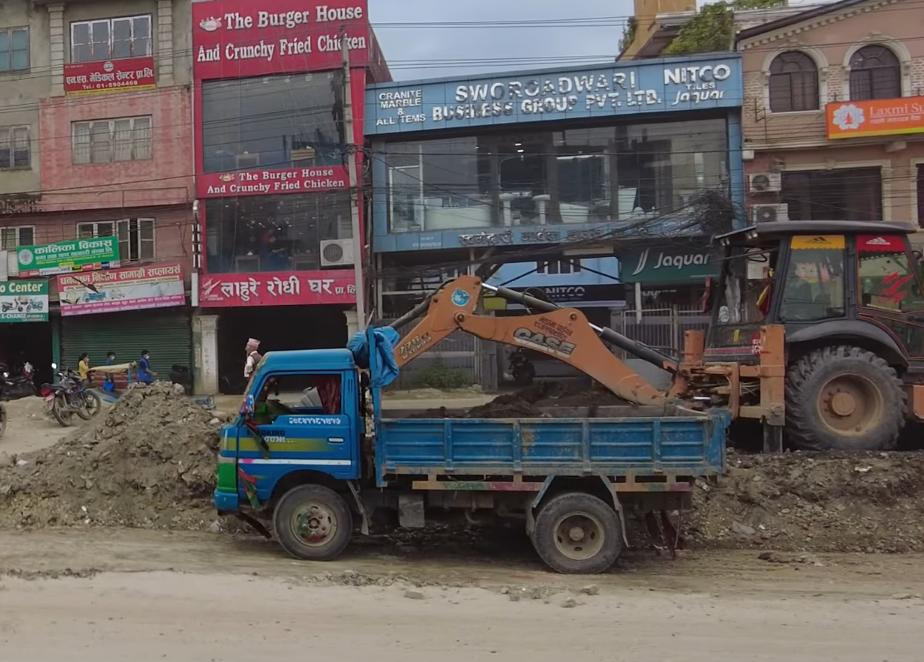bike: (33, 356, 100, 434)
mini_truck: (211, 324, 725, 575)
